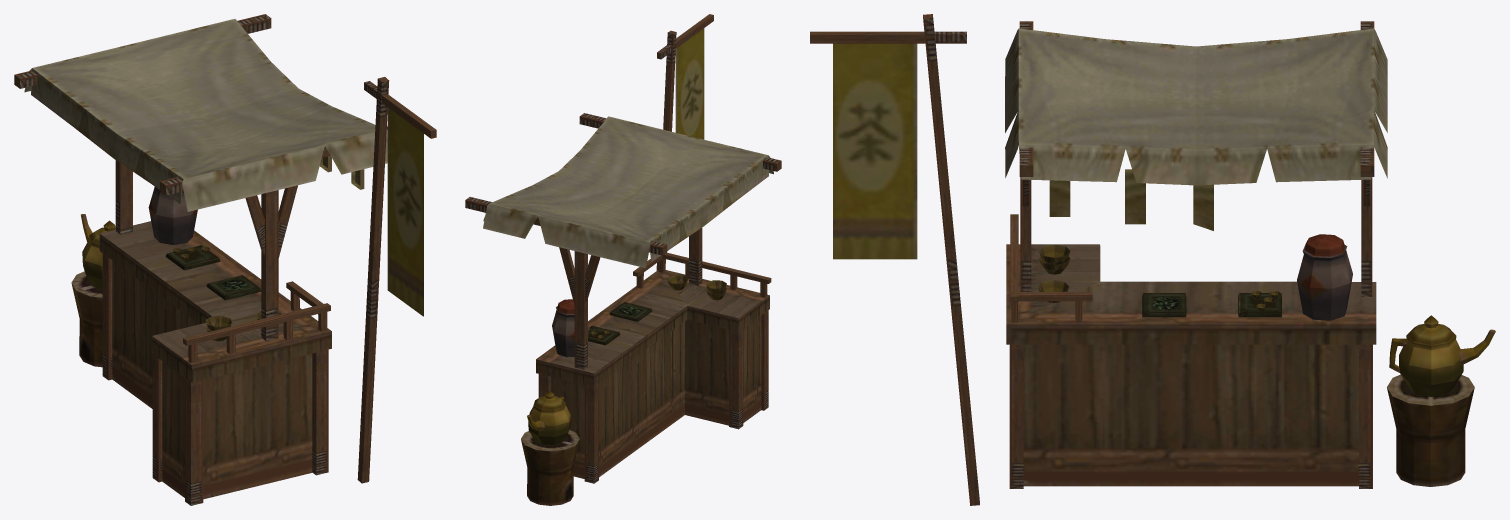
The model's file is Yland1_bj_05 Yland1.FBX.
3 views of the same model, side by side, from view 1: azimuth 30°, elevation 25°; view 2: azimuth 150°, elevation 25°; view 3: azimuth 270°, elevation 25° (orthographic). The views are drawn at different scales.
Visible parts, largest first — view 1: Yland1_bj_05 Yland1; view 2: Yland1_bj_05 Yland1; view 3: Yland1_bj_05 Yland1.
Part boxes in pixels (x1=…): Yland1_bj_05 Yland1: x1=14, y1=14, x2=436, y2=505; Yland1_bj_05 Yland1: x1=465, y1=14, x2=781, y2=505; Yland1_bj_05 Yland1: x1=810, y1=14, x2=1495, y2=505.
Bounding box in the file's own units: 1.93 × 3.08 × 3.9.
